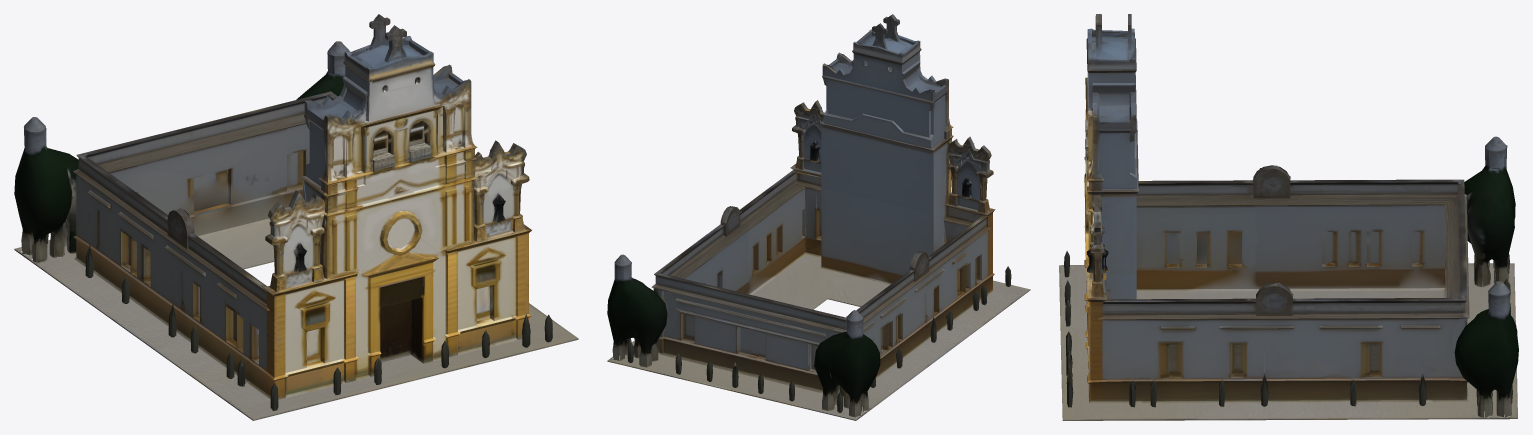
The model's file is IglesiaP.glb.
The picture shows the model from 3 angles, left to right: view 1: azimuth 30°, elevation 25°; view 2: azimuth 150°, elevation 25°; view 3: azimuth 270°, elevation 25°; orthographic projection. The views are drawn at different scales.
Visible parts, largest first — view 1: mesh_rep_0_ori_repair_quad.001; view 2: mesh_rep_0_ori_repair_quad.001; view 3: mesh_rep_0_ori_repair_quad.001.
Boxes of the visible parts, x1,y1,x2,y2 form: mesh_rep_0_ori_repair_quad.001: (14, 14, 578, 420); mesh_rep_0_ori_repair_quad.001: (607, 14, 1030, 420); mesh_rep_0_ori_repair_quad.001: (1059, 14, 1518, 420).
Bounding box in the file's own units: 1.82 × 1.71 × 2.17.
Materials: 1 (1 with a texture image).
